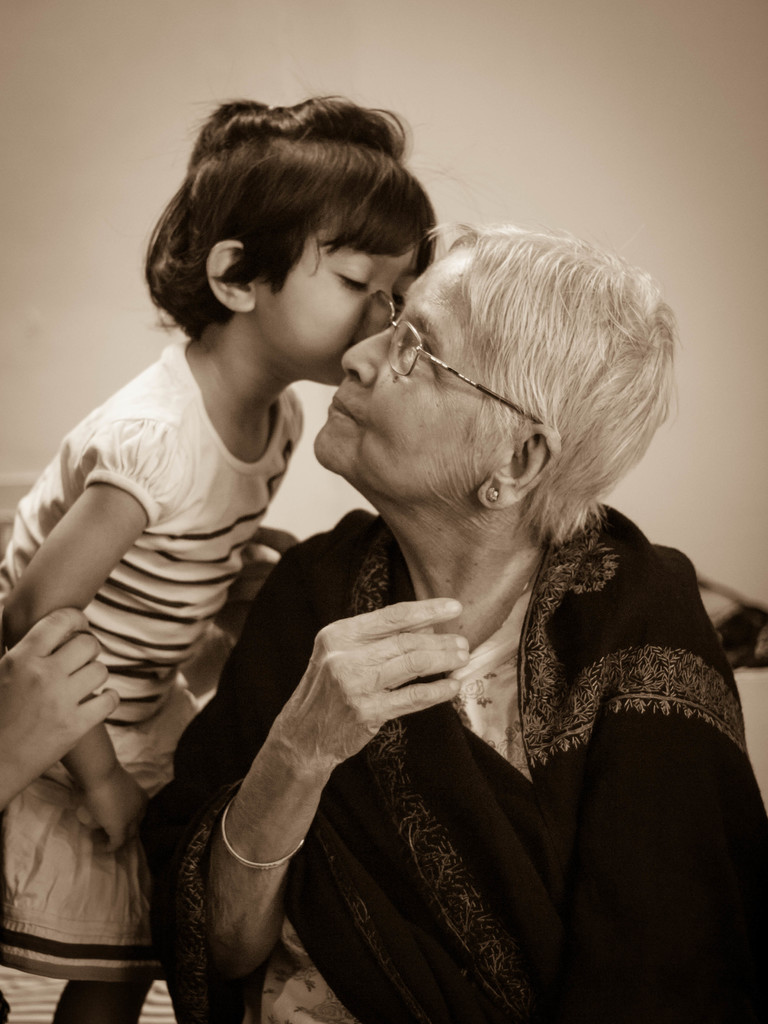face: (317, 232, 496, 502)
